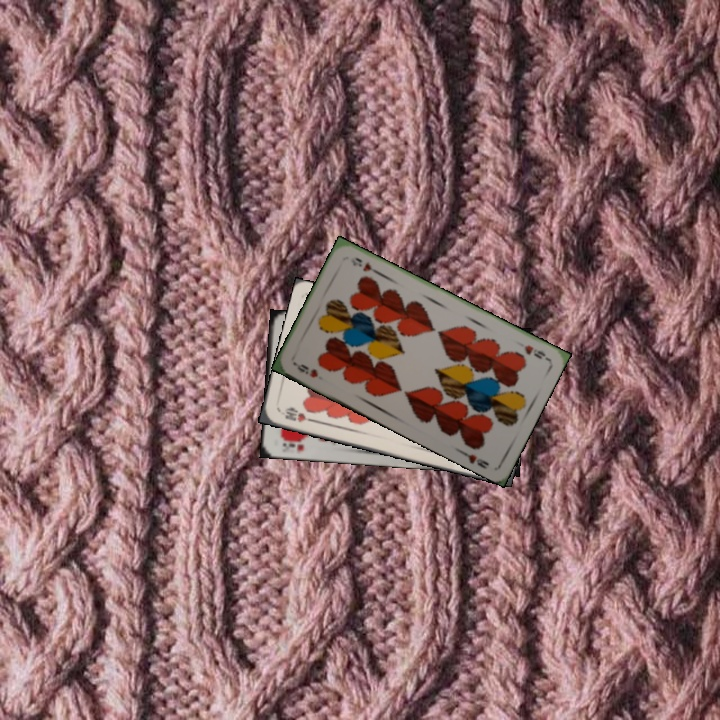H10: (281, 404, 316, 425)
H9: (290, 358, 320, 380), (520, 341, 551, 362)
HK: (276, 434, 308, 454)
